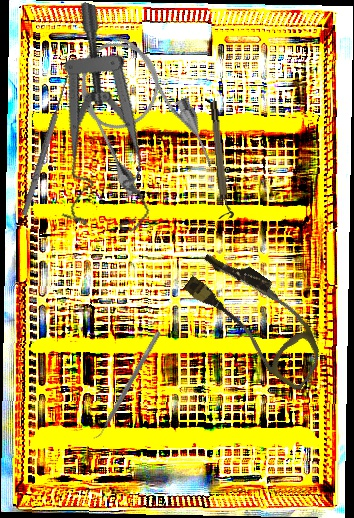Cannula: (60, 21, 221, 207), (172, 242, 342, 393)
Fixation Ring: (207, 100, 235, 220)
Hook Surgical: (14, 66, 75, 217)
Spatula Surgical: (90, 327, 162, 444)
Speculum: (18, 1, 203, 242)
